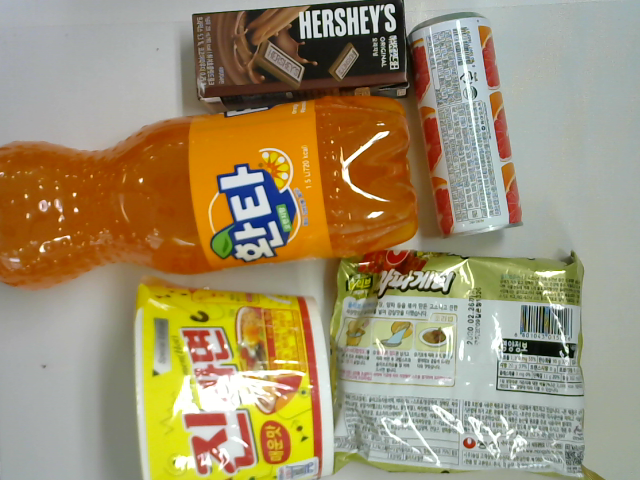Demisoda_Grapefruit_Can_250ml: (407, 10, 525, 239)
Hush_Choco_Drink: (191, 1, 413, 107)
Hwanta_Orange_1.5L: (1, 93, 422, 290)
Jinlamyeon_Hot_Taste_Large_Cup: (134, 274, 336, 480)
Olive_Chapaghetti: (327, 249, 609, 480)
